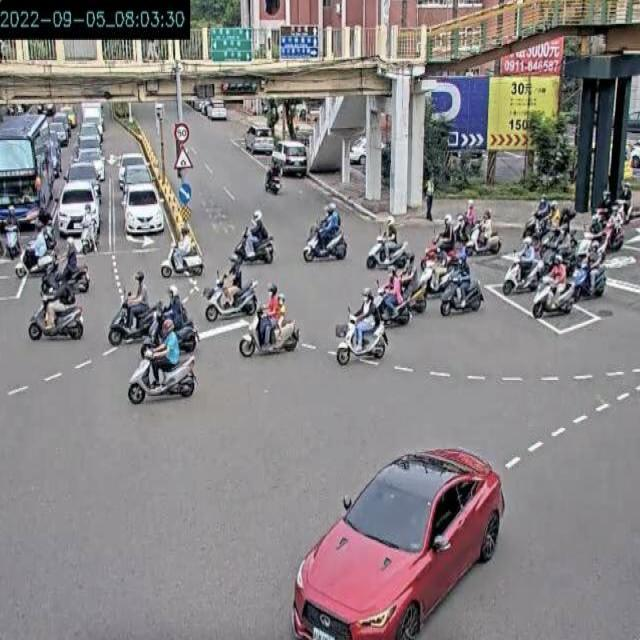Ad-signs: (0, 0, 191, 40)
Car: (289, 445, 505, 639)
